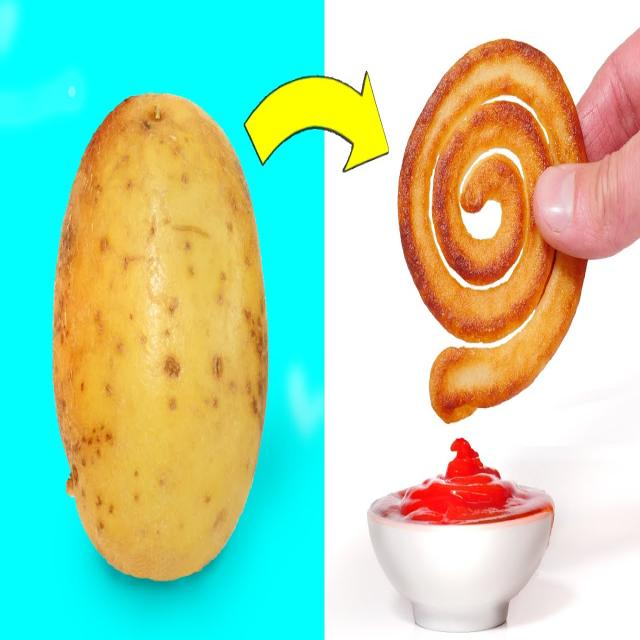potato: (53, 94, 270, 583)
